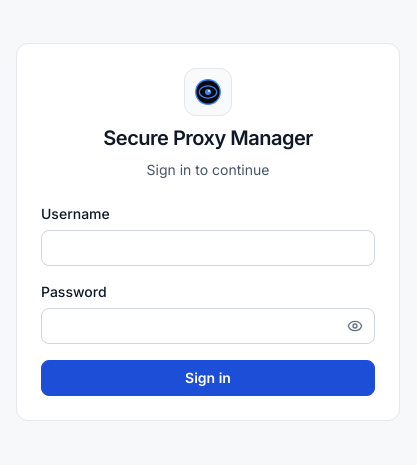
it: Login › does not expose arbitrary backend error details on 400/401
In the field labelled "Username": (208, 248) [41,230,375,266], type "admin"
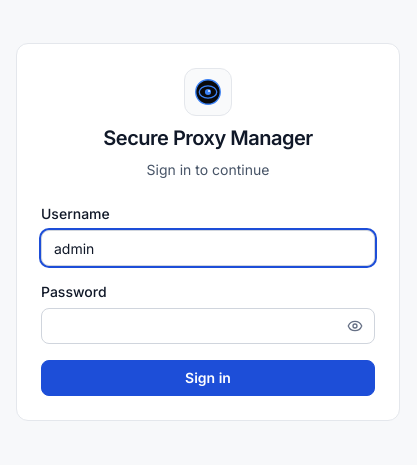
In the password field labelled "Password": (208, 326) [41,308,375,344], type "pass"
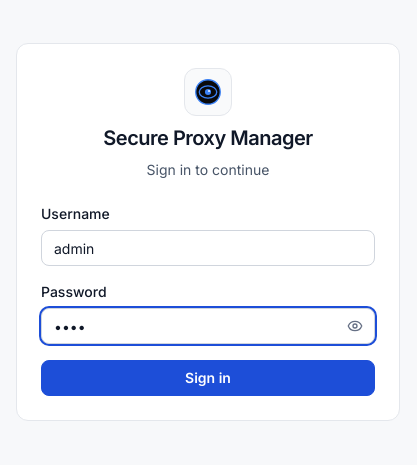
Click the button "Sign in": (208, 378) [41,360,375,396]
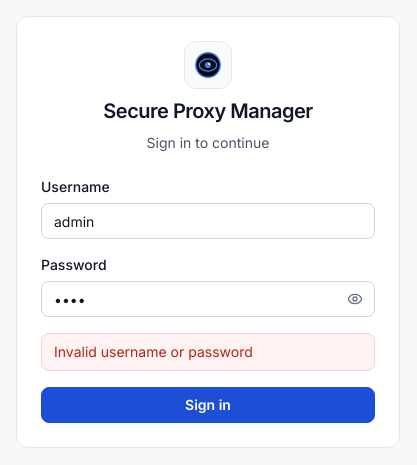
Expected: the message reads "Invalid username or password", [54,343,253,360]
